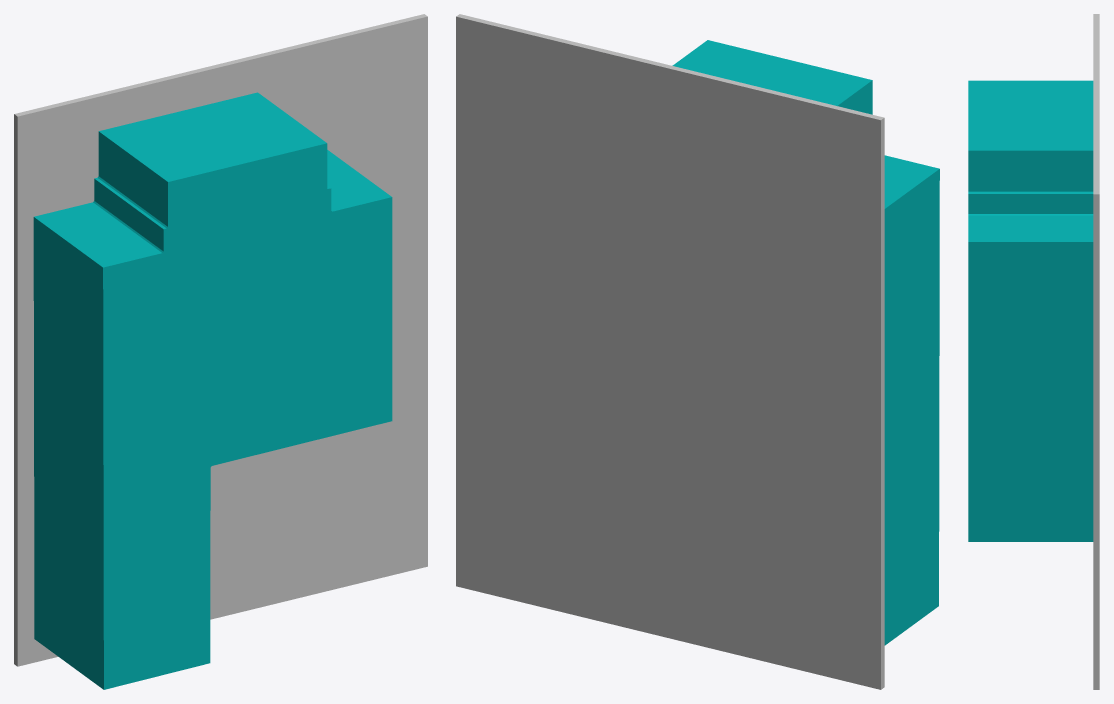
3 renders of one model, left to right at view 1: azimuth 30°, elevation 25°; view 2: azimuth 150°, elevation 25°; view 3: azimuth 270°, elevation 25°, orthographic. The views are drawn at different scales.
Parts seen in each view (by area): view 1: world; view 2: world; view 3: world.
Part boxes in pixels (x1,y1,x2,y2): world: [14, 14, 427, 689]; world: [456, 14, 939, 689]; world: [968, 14, 1099, 689].
Size of the model in its own units: 10.23 by 13.11 by 3.15.
